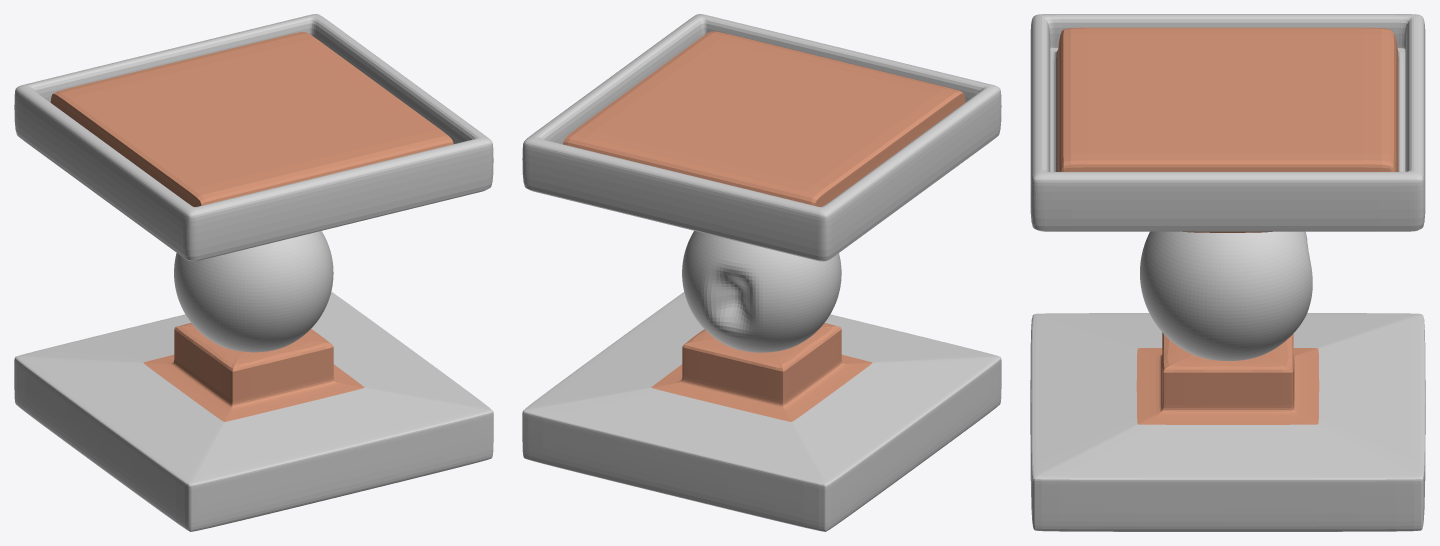
The model's file is BigBomb_orig.fbx.
3 renders of one model, left to right at view 1: azimuth 30°, elevation 25°; view 2: azimuth 150°, elevation 25°; view 3: azimuth 270°, elevation 25°, orthographic. The views are drawn at different scales.
Parts seen in each view (by area): view 1: Cube.012; view 2: Cube.012; view 3: Cube.012.
Part boxes in pixels (x1,y1,x2,y2): Cube.012: [14, 14, 493, 531]; Cube.012: [522, 14, 1001, 531]; Cube.012: [1030, 14, 1425, 531].
Size of the model in its own units: 99.96 by 99.92 by 99.96.
